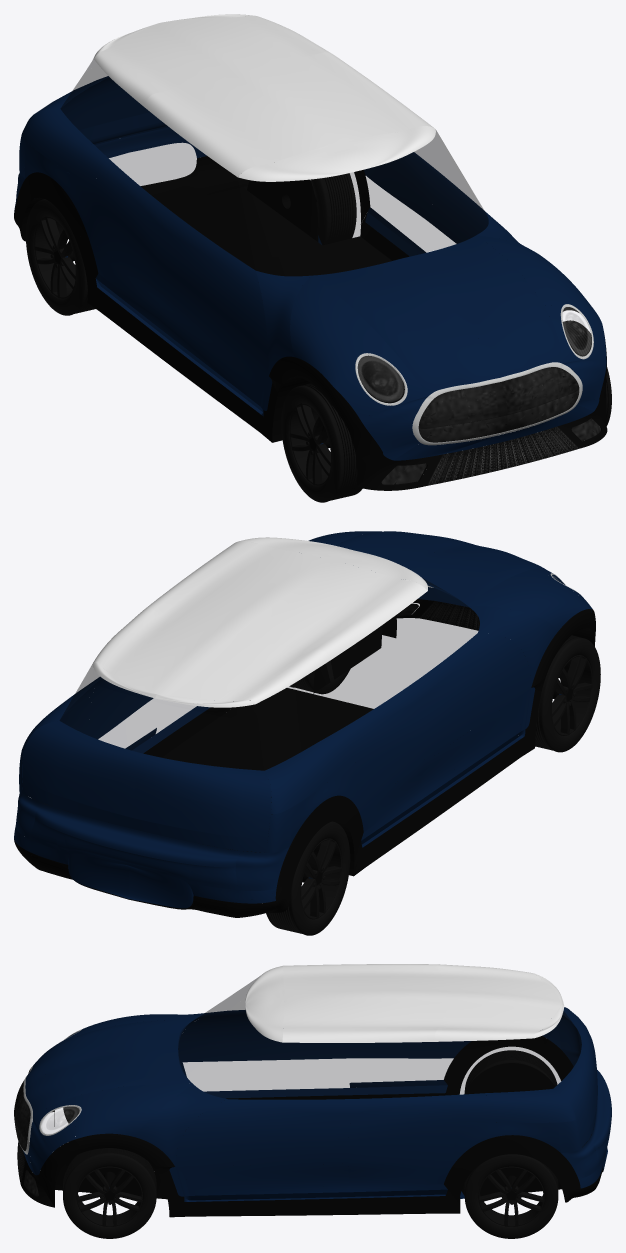
File: minisite.glb
3 renders of one model, top to bottom at view 1: azimuth 30°, elevation 25°; view 2: azimuth 150°, elevation 25°; view 3: azimuth 270°, elevation 25°, orthographic. The views are drawn at different scales.
Parts seen in each view (by area): view 1: take3(8CA1B32D-0C78-4F49-AE61-93438CB256AA), cladding2(E08CA0B5-E9F0-48C7-B093-7DD4E27FDA72), glass(53DAB79C-17B2-4AC0-A4AB-29CCD91A0532), take3(4AF4143A-5C98-42B1-B847-249404EACC3A), glass(9568CD76-DA25-47B3-8A9B-B654D0BB65ED), take3(0F3C47E8-0C04-4831-B310-76AD35F74692), take3(C4460C16-CDFB-452B-8BB6-438187570D96), glass(7D5BF8B5-8888-4122-A4A8-786EB0CF4D26), take3(08EF6499-EEBF-4AEB-899D-CEA87746E9BE), take3(1F5EE099-D0D4-481C-B5DD-EB5BBBA15FC8), take3(3F8A49A1-079E-49DB-B1AE-B34041DAFD60), take3(39F9ABEF-542B-4504-ADB7-88C554CD3445) (+42 smaller); view 2: take3(8CA1B32D-0C78-4F49-AE61-93438CB256AA), cladding2(E08CA0B5-E9F0-48C7-B093-7DD4E27FDA72), glass(9568CD76-DA25-47B3-8A9B-B654D0BB65ED), take3(46EBD2DB-7B7C-40E3-B9A2-62668E4A7789), take3(46EBD2DB-7B7C-40E3-B9A2-62668E4A7789) #4, take3(C4460C16-CDFB-452B-8BB6-438187570D96), take3(1F5EE099-D0D4-481C-B5DD-EB5BBBA15FC8), glass(D851C21B-EF51-460A-8860-33BB4D6FEC42), take3(08EF6499-EEBF-4AEB-899D-CEA87746E9BE), take3(39F9ABEF-542B-4504-ADB7-88C554CD3445), take3(6A697AB7-6CE3-461F-B5ED-337E216FA1C6), take3(4AF4143A-5C98-42B1-B847-249404EACC3A) (+34 smaller); view 3: take3(8CA1B32D-0C78-4F49-AE61-93438CB256AA), glass(253D18CE-DBC2-452A-B3FB-DA77E94CEF70), take3(DF91739C-6A05-4D56-8C86-1D63E2CBE2BD), take3(2914057F-7BF9-4910-B16E-033636DAC793), take3(004E92A4-E1F1-4BBF-85C6-C5D5ADC3AA66), take3(0BF77DEA-C1CB-4814-93A5-0087E2BC650D), take3(0F3C47E8-0C04-4831-B310-76AD35F74692), glass(7D5BF8B5-8888-4122-A4A8-786EB0CF4D26), take3(C4460C16-CDFB-452B-8BB6-438187570D96), cladding2(694D823B-0DB7-4C90-BE95-C5B0F2958D28), take3(4AF4143A-5C98-42B1-B847-249404EACC3A), take3(1EFB943D-3C45-46AF-8F29-62A6ABE4E811) (+48 smaller).
Part boxes in pixels (box(x1,y1,x2,y2)): take3(8CA1B32D-0C78-4F49-AE61-93438CB256AA): box(94, 15, 433, 177); cladding2(E08CA0B5-E9F0-48C7-B093-7DD4E27FDA72): box(140, 156, 404, 403); glass(53DAB79C-17B2-4AC0-A4AB-29CCD91A0532): box(238, 171, 402, 275); take3(4AF4143A-5C98-42B1-B847-249404EACC3A): box(312, 258, 499, 395); glass(9568CD76-DA25-47B3-8A9B-B654D0BB65ED): box(94, 89, 255, 269); take3(0F3C47E8-0C04-4831-B310-76AD35F74692): box(403, 235, 562, 377); take3(C4460C16-CDFB-452B-8BB6-438187570D96): box(157, 209, 268, 375); glass(7D5BF8B5-8888-4122-A4A8-786EB0CF4D26): box(361, 131, 488, 257); take3(08EF6499-EEBF-4AEB-899D-CEA87746E9BE): box(281, 383, 362, 502); take3(1F5EE099-D0D4-481C-B5DD-EB5BBBA15FC8): box(90, 159, 168, 291); take3(3F8A49A1-079E-49DB-B1AE-B34041DAFD60): box(290, 275, 386, 387); take3(39F9ABEF-542B-4504-ADB7-88C554CD3445): box(26, 199, 95, 315); take3(8CA1B32D-0C78-4F49-AE61-93438CB256AA): box(93, 541, 427, 703); cladding2(E08CA0B5-E9F0-48C7-B093-7DD4E27FDA72): box(31, 688, 373, 917); glass(9568CD76-DA25-47B3-8A9B-B654D0BB65ED): box(306, 591, 476, 741); take3(46EBD2DB-7B7C-40E3-B9A2-62668E4A7789): box(134, 754, 271, 852); take3(46EBD2DB-7B7C-40E3-B9A2-62668E4A7789) #4: box(22, 721, 143, 829); take3(C4460C16-CDFB-452B-8BB6-438187570D96): box(404, 633, 531, 762); take3(1F5EE099-D0D4-481C-B5DD-EB5BBBA15FC8): box(340, 689, 424, 810); glass(D851C21B-EF51-460A-8860-33BB4D6FEC42): box(144, 703, 263, 770); take3(08EF6499-EEBF-4AEB-899D-CEA87746E9BE): box(535, 635, 600, 752); take3(39F9ABEF-542B-4504-ADB7-88C554CD3445): box(266, 821, 350, 935); take3(6A697AB7-6CE3-461F-B5ED-337E216FA1C6): box(35, 802, 239, 867); take3(4AF4143A-5C98-42B1-B847-249404EACC3A): box(407, 544, 545, 605); take3(8CA1B32D-0C78-4F49-AE61-93438CB256AA): box(282, 964, 561, 1042); glass(253D18CE-DBC2-452A-B3FB-DA77E94CEF70): box(229, 1041, 483, 1099); take3(DF91739C-6A05-4D56-8C86-1D63E2CBE2BD): box(175, 1099, 355, 1166); take3(2914057F-7BF9-4910-B16E-033636DAC793): box(347, 1095, 454, 1163); take3(004E92A4-E1F1-4BBF-85C6-C5D5ADC3AA66): box(63, 1148, 156, 1238); take3(0BF77DEA-C1CB-4814-93A5-0087E2BC650D): box(464, 1154, 558, 1238); take3(0F3C47E8-0C04-4831-B310-76AD35F74692): box(25, 1049, 192, 1116); glass(7D5BF8B5-8888-4122-A4A8-786EB0CF4D26): box(178, 1005, 281, 1098); take3(C4460C16-CDFB-452B-8BB6-438187570D96): box(178, 1010, 347, 1062); cladding2(694D823B-0DB7-4C90-BE95-C5B0F2958D28): box(190, 1196, 459, 1216); take3(4AF4143A-5C98-42B1-B847-249404EACC3A): box(25, 1020, 192, 1086); take3(1EFB943D-3C45-46AF-8F29-62A6ABE4E811): box(75, 1083, 192, 1139).
Size of the model in its own units: 3.61 by 3.02 by 8.47.
Materials: 245 (9 with a texture image).
